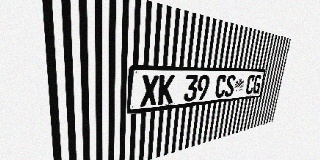3: (183, 75, 198, 102)
9: (196, 75, 210, 100)
C: (214, 75, 227, 98), (245, 75, 255, 95)
G: (252, 75, 262, 94)
K: (157, 75, 175, 105)
S: (224, 75, 236, 97)
X: (140, 75, 159, 107)
